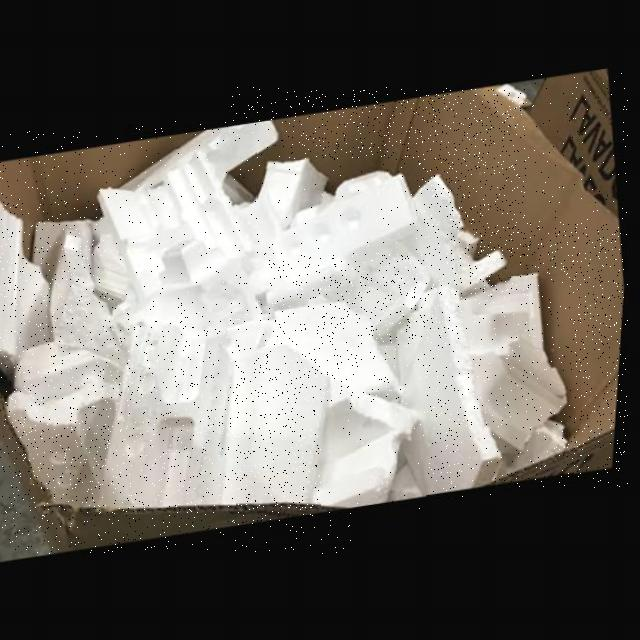paper: (230, 87, 628, 489), (0, 387, 354, 555), (0, 131, 207, 262), (527, 71, 622, 223)
styrofoam: (463, 276, 574, 490), (101, 150, 257, 302), (110, 325, 236, 511), (401, 287, 508, 498), (255, 160, 416, 297), (228, 348, 337, 508), (269, 254, 430, 341), (269, 304, 407, 405), (322, 380, 426, 510), (13, 386, 122, 510), (411, 176, 510, 300), (147, 241, 267, 342), (0, 194, 59, 391), (123, 121, 281, 191), (54, 229, 133, 369), (21, 343, 128, 403)
